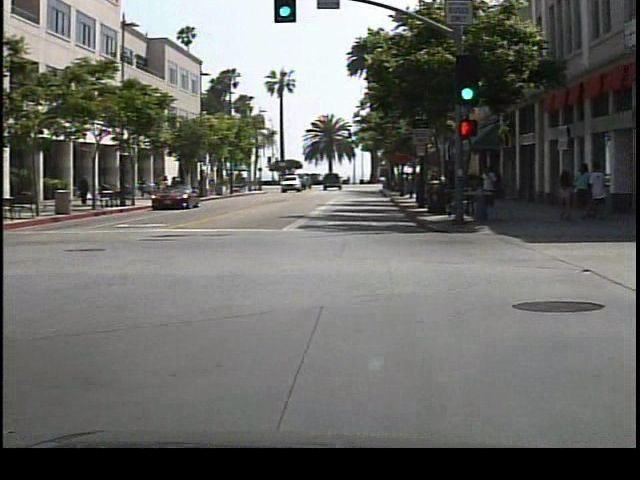person: (482, 160, 508, 215), (80, 172, 97, 207)
